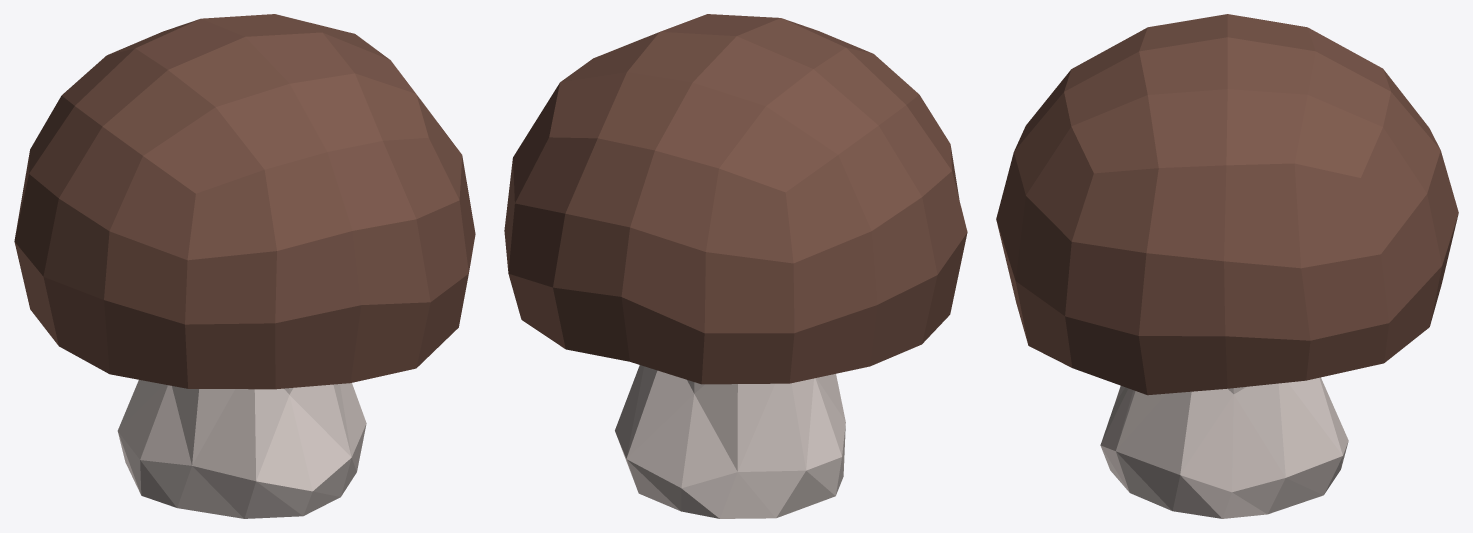
The model's file is fantasy_plant_038.fbx.
3 renders of one model, left to right at view 1: azimuth 30°, elevation 25°; view 2: azimuth 150°, elevation 25°; view 3: azimuth 270°, elevation 25°, orthographic.
Parts seen in each view (by area): view 1: fantasy_plant.038; view 2: fantasy_plant.038; view 3: fantasy_plant.038.
Boxes of the visible parts, box(x1,y1,x2,y2) form: fantasy_plant.038: box(14, 14, 475, 518); fantasy_plant.038: box(504, 14, 967, 518); fantasy_plant.038: box(996, 14, 1458, 518).
Bounding box in the file's own units: 629 × 648 × 626.
1 material, 1 textured.
